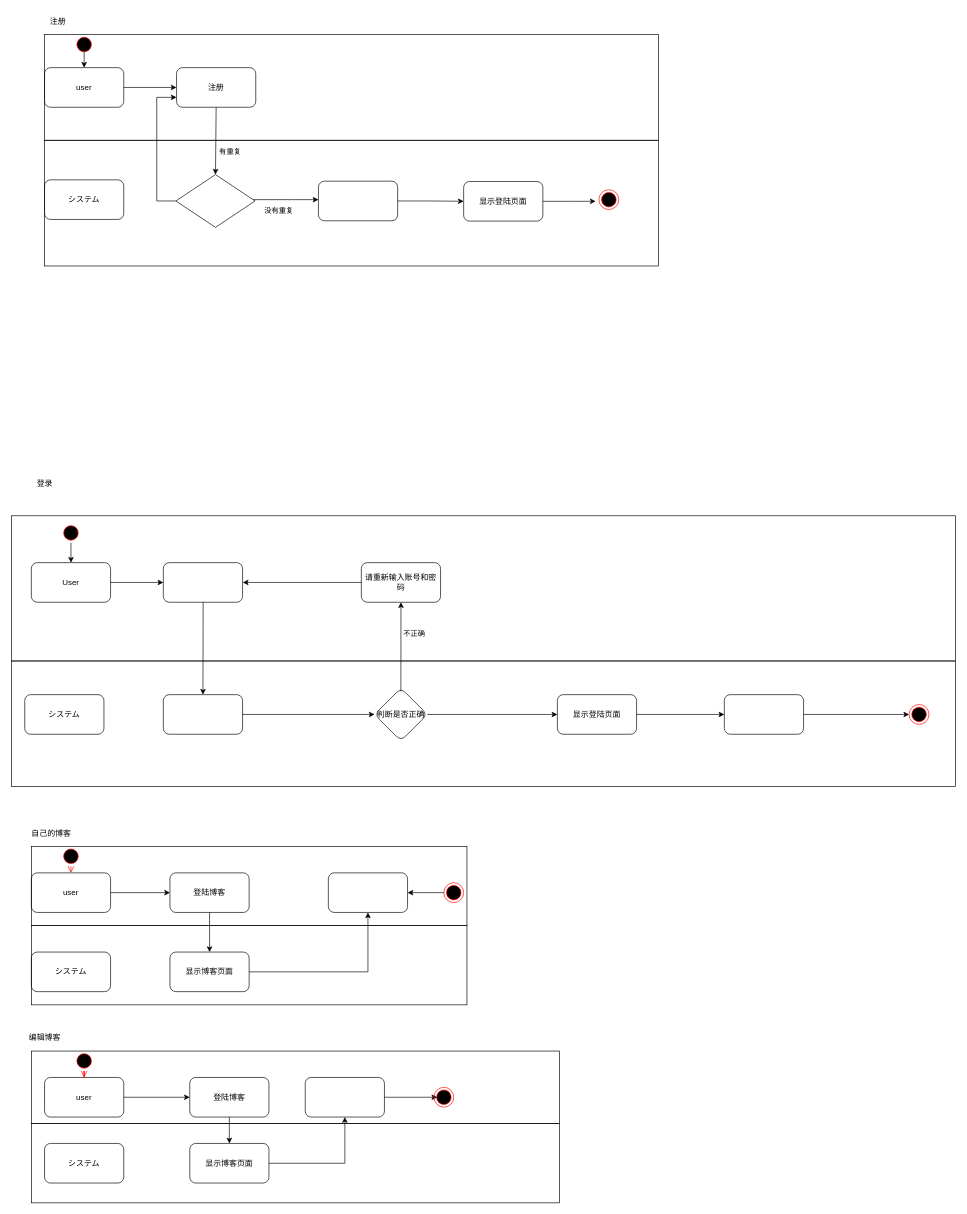
This 967x1214 diagram has some shape labels left out. Each missing label, with the box of its shape:
ログイン: (163, 562, 243, 602)
修删改查: (305, 1077, 384, 1117)
判断有没有重复 的用户名: (175, 174, 255, 227)
取出账号和密码: (163, 694, 243, 734)
增删改查: (328, 872, 408, 912)
存入账号和密码: (318, 181, 398, 221)
正确: (11, 660, 955, 786)
跳转博客页面: (724, 694, 804, 734)
